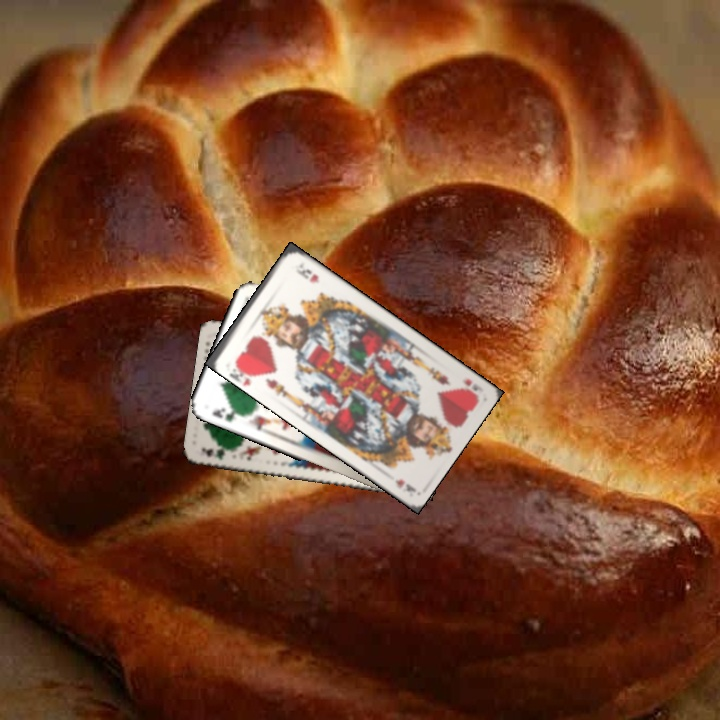GK: (208, 403, 244, 425), (198, 443, 228, 462)
HK: (227, 356, 262, 384), (458, 375, 485, 394)
